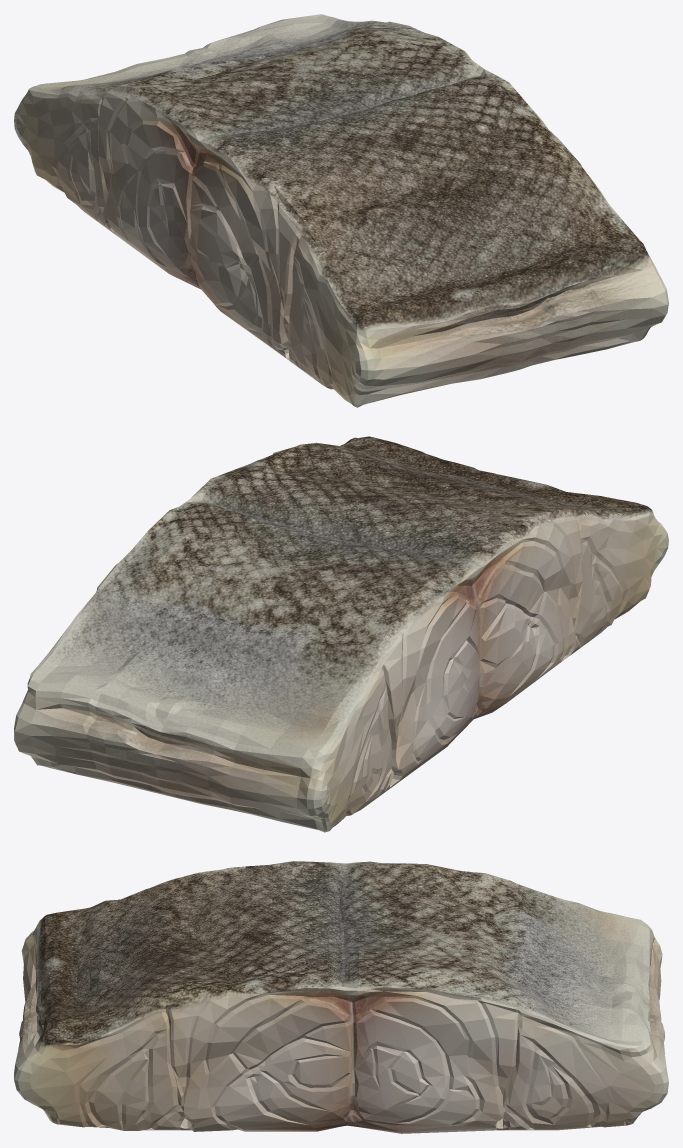
The model's file is TARA.obj.
3 renders of one model, top to bottom at view 1: azimuth 30°, elevation 25°; view 2: azimuth 150°, elevation 25°; view 3: azimuth 270°, elevation 25°, orthographic. The views are drawn at different scales.
Parts seen in each view (by area): view 1: tripo_node_0c94e3ec-4eb2-4aab-8255-7874ec475857; view 2: tripo_node_0c94e3ec-4eb2-4aab-8255-7874ec475857; view 3: tripo_node_0c94e3ec-4eb2-4aab-8255-7874ec475857.
Boxes of the visible parts, <box> form: tripo_node_0c94e3ec-4eb2-4aab-8255-7874ec475857: <box>14,14,668,407</box>; tripo_node_0c94e3ec-4eb2-4aab-8255-7874ec475857: <box>14,436,668,832</box>; tripo_node_0c94e3ec-4eb2-4aab-8255-7874ec475857: <box>14,861,668,1133</box>.
Bounding box in the file's own units: 0.4874 × 0.2533 × 0.9768.
Materials: 1 (1 with a texture image).
